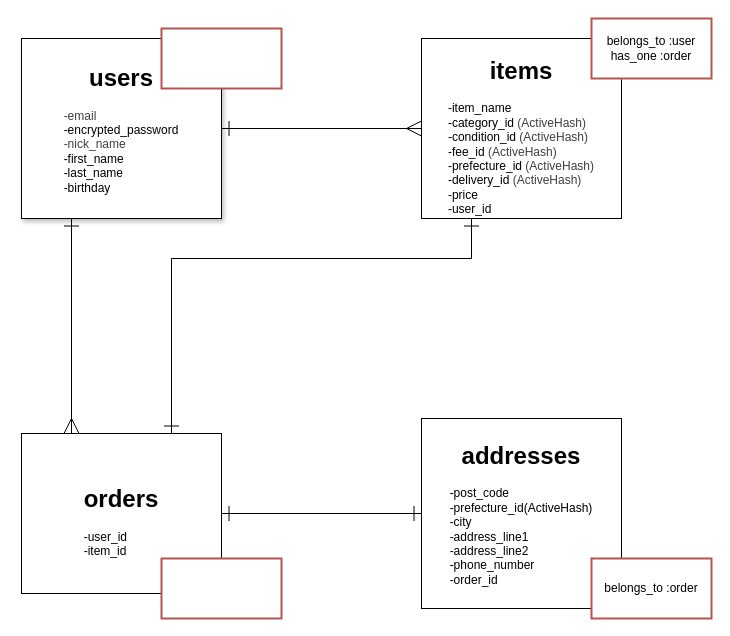
Image size: 730x636. Some labels were removed from this diagram. The centre of each missing label's shape, as x and y in pixels:
belongs_to :user belongs_to :item has_one :address: point 221,588
has_many :items has_many :orders: point 221,58
